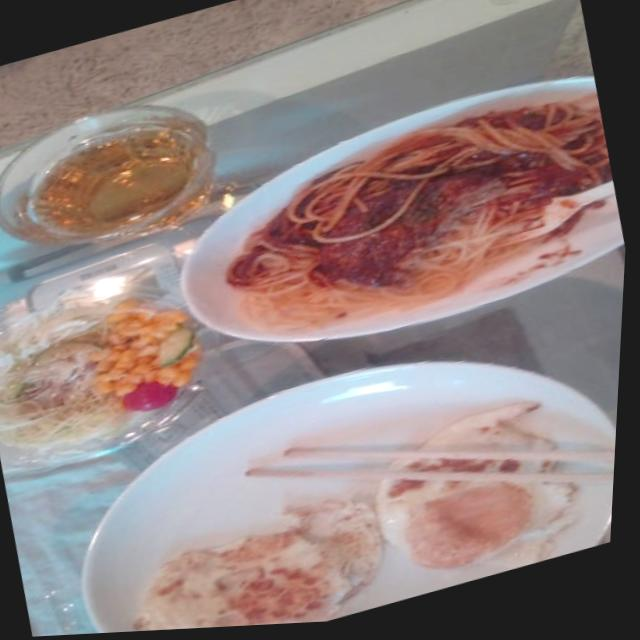蔬菜料理: (0, 287, 217, 485)
鸡蛋料理: (116, 399, 592, 634)
